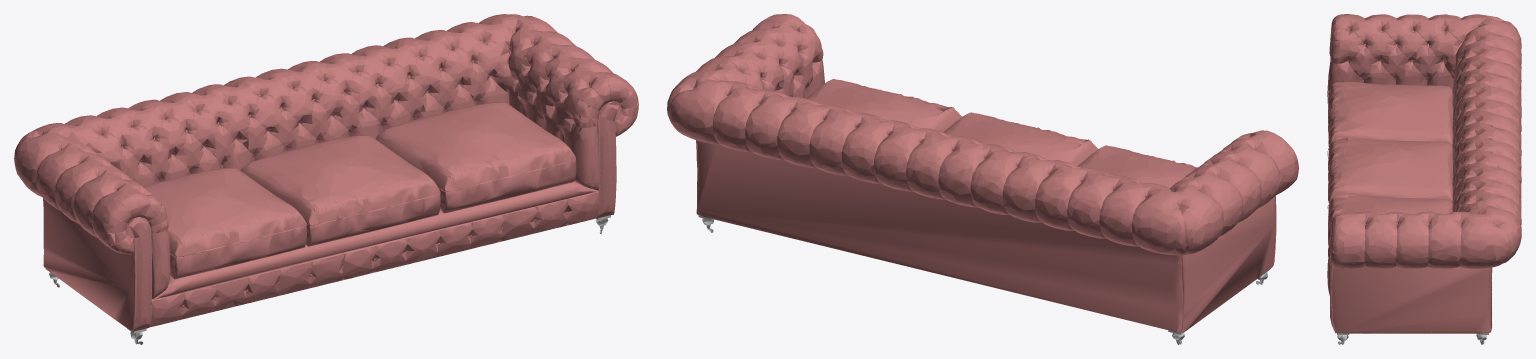
The model's file is LowPolySofa.fbx.
The picture shows the model from 3 angles, left to right: view 1: azimuth 30°, elevation 25°; view 2: azimuth 150°, elevation 25°; view 3: azimuth 270°, elevation 25°; orthographic projection. The views are drawn at different scales.
Visible parts, largest first — view 1: Kensington_Upholstered_Sofa_RH_001; view 2: Kensington_Upholstered_Sofa_RH_001; view 3: Kensington_Upholstered_Sofa_RH_001.
Boxes of the visible parts, x1,y1,x2,y2 form: Kensington_Upholstered_Sofa_RH_001: [14, 14, 638, 344]; Kensington_Upholstered_Sofa_RH_001: [667, 14, 1298, 344]; Kensington_Upholstered_Sofa_RH_001: [1327, 14, 1521, 344].
Bounding box in the file's own units: 301 × 82.45 × 110.
